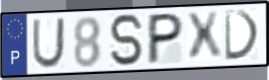8: (72, 14, 105, 69)
D: (223, 9, 263, 63)
P: (145, 11, 186, 67)
S: (107, 12, 146, 68)
U: (31, 17, 68, 71)
X: (184, 10, 225, 64)
